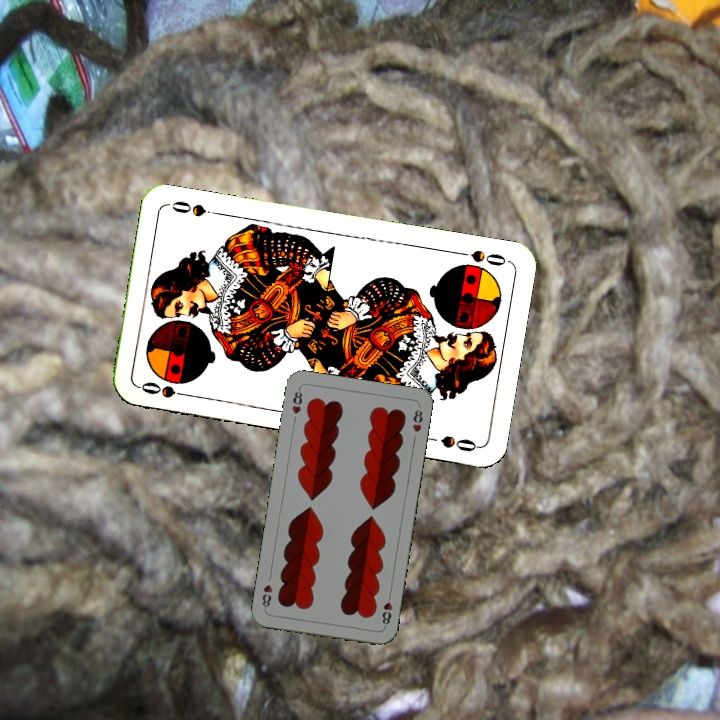H8: (378, 589, 395, 630), (288, 384, 305, 417)
SO: (136, 378, 195, 401), (452, 246, 511, 269)
